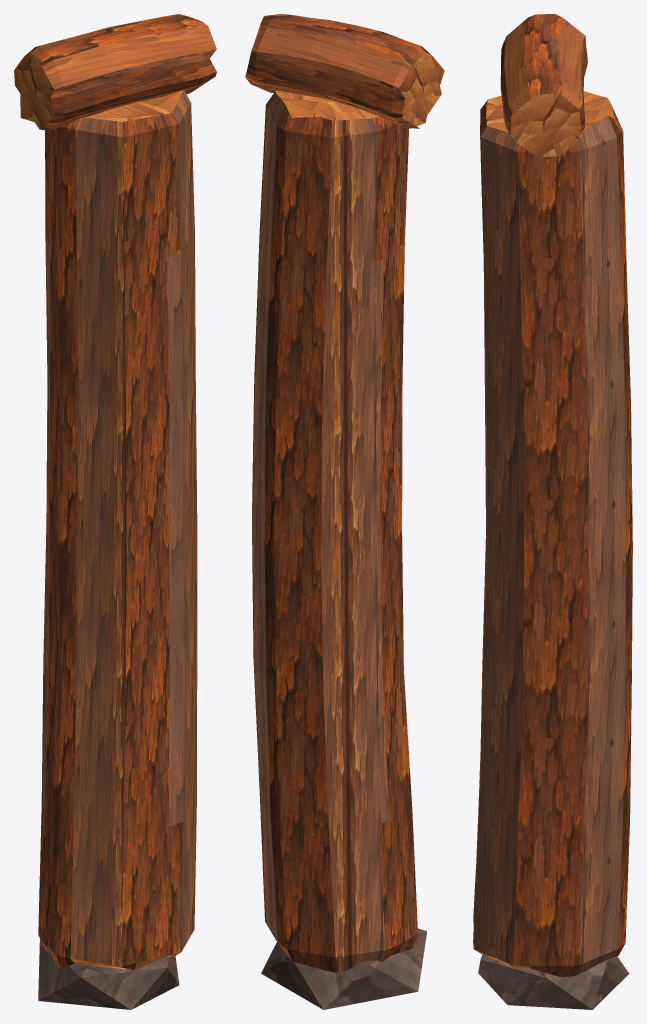
The model's file is pillar__plank_root.glb.
The picture shows the model from 3 angles, left to right: view 1: azimuth 30°, elevation 25°; view 2: azimuth 150°, elevation 25°; view 3: azimuth 270°, elevation 25°; orthographic projection.
Parts seen in each view (by area): view 1: model; view 2: model; view 3: model.
Boxes of the visible parts, left/top/right/bottom form: model: left=14, top=14, right=216, bottom=1009; model: left=245, top=14, right=444, bottom=1009; model: left=473, top=14, right=632, bottom=1009.
Bounding box in the file's own units: 0.3709 × 1.98 × 0.3029.
Materials: 8 (8 with a texture image).
